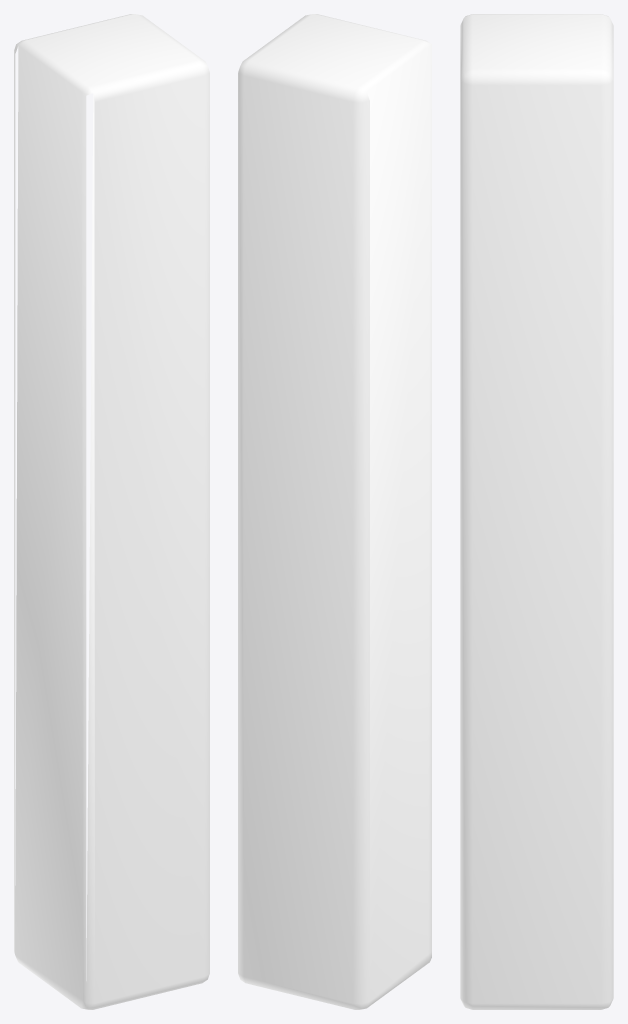
File: LightShaft.glb
3 renders of one model, left to right at view 1: azimuth 30°, elevation 25°; view 2: azimuth 150°, elevation 25°; view 3: azimuth 270°, elevation 25°, orthographic.
Visible parts, largest first — view 1: Cube; view 2: Cube; view 3: Cube.
Boxes of the visible parts, x1,y1,x2,y2 form: Cube: (14,14,209,1009); Cube: (238,14,431,1009); Cube: (460,14,613,1009).
Bounding box in the file's own units: 2 × 13.52 × 2.
1 material, 1 textured.
